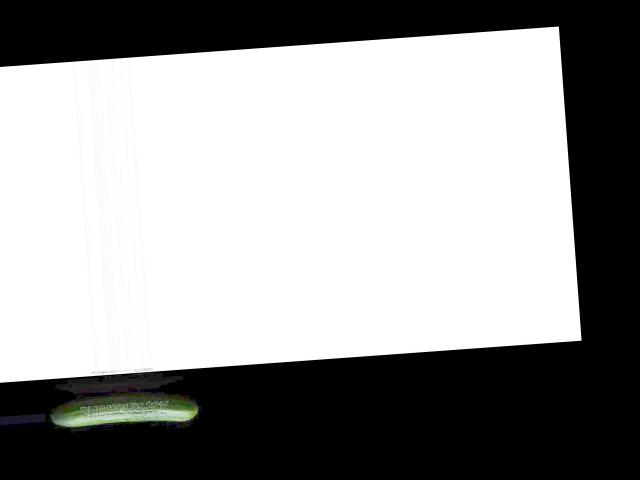cucumber: (51, 397, 199, 429)
